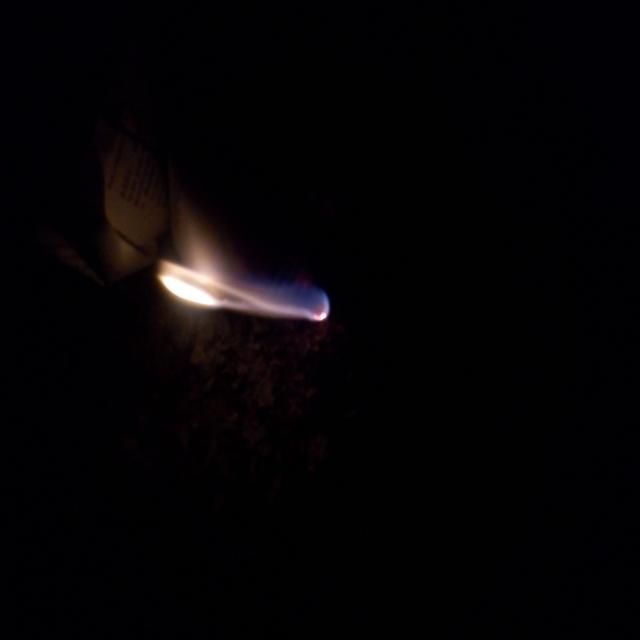Fire: (239, 208, 286, 444)
